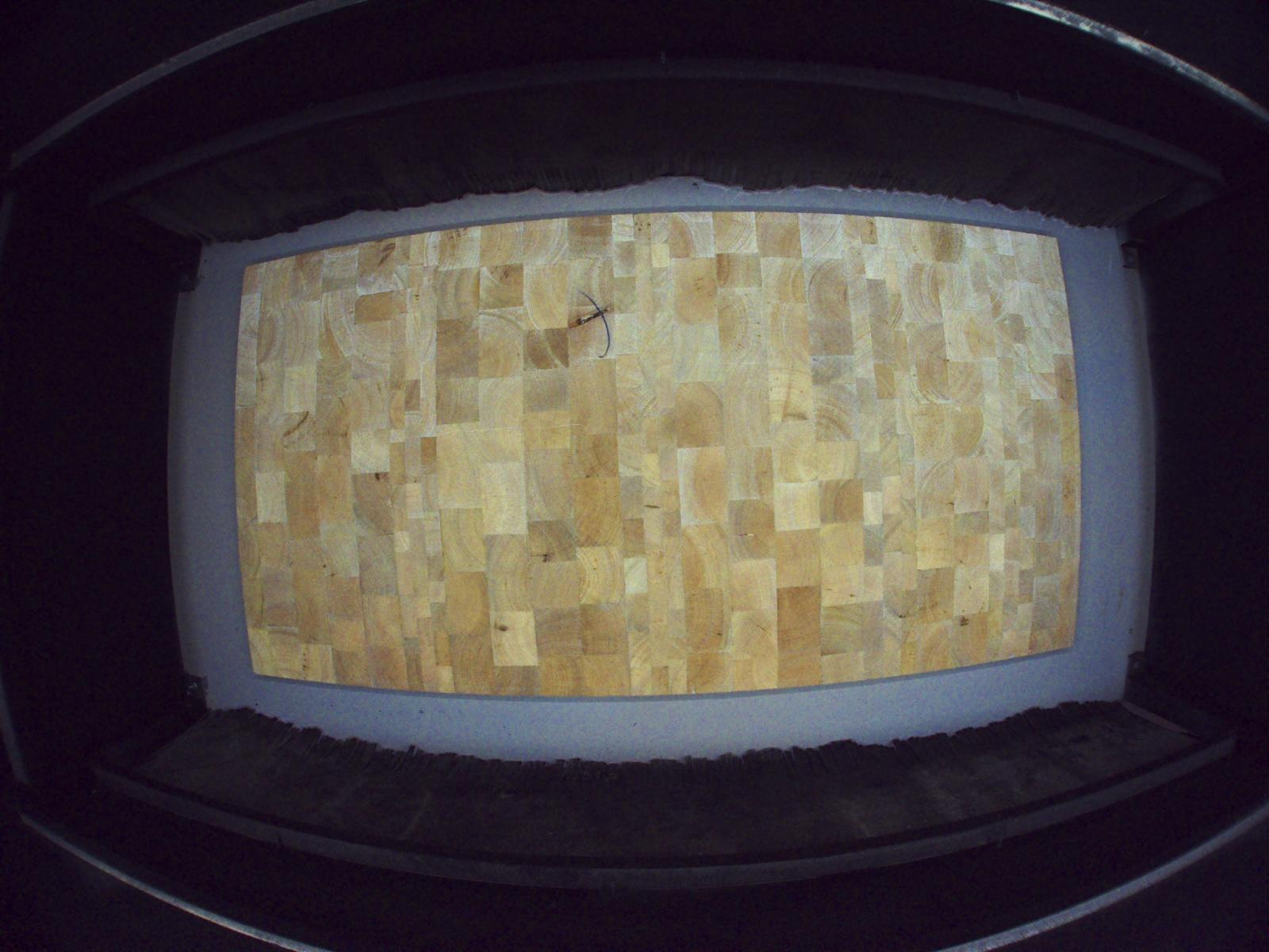nudillo: (564, 302, 615, 331)
